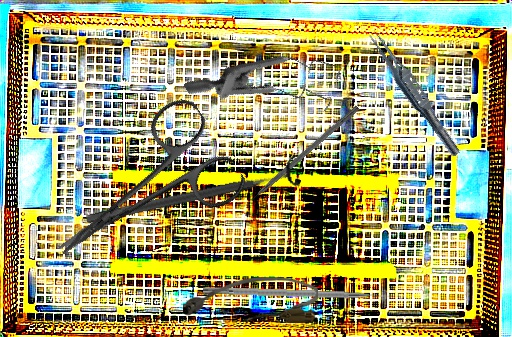Cannula: (183, 277, 318, 323)
Fixation Ring: (83, 154, 302, 235)
Hook Surgical: (240, 103, 360, 210), (202, 285, 400, 303)
Iris Scissors: (25, 91, 252, 296)
Speculum: (183, 9, 354, 168)
Tissue Forceps: (361, 26, 467, 160)
